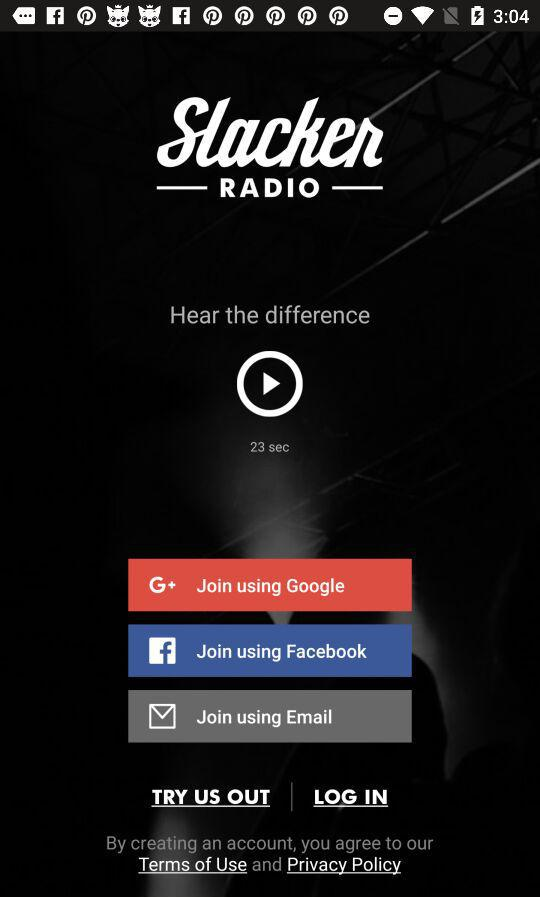Icon: (237, 351, 304, 418)
Image: (157, 97, 384, 199)
Text: (107, 835, 434, 876), (171, 305, 371, 325), (151, 789, 271, 808), (313, 788, 389, 808), (251, 441, 290, 454)
TextButton: (128, 558, 413, 612), (128, 624, 412, 678), (128, 690, 412, 743)
UpperTaskBar: (1, 1, 540, 33)
